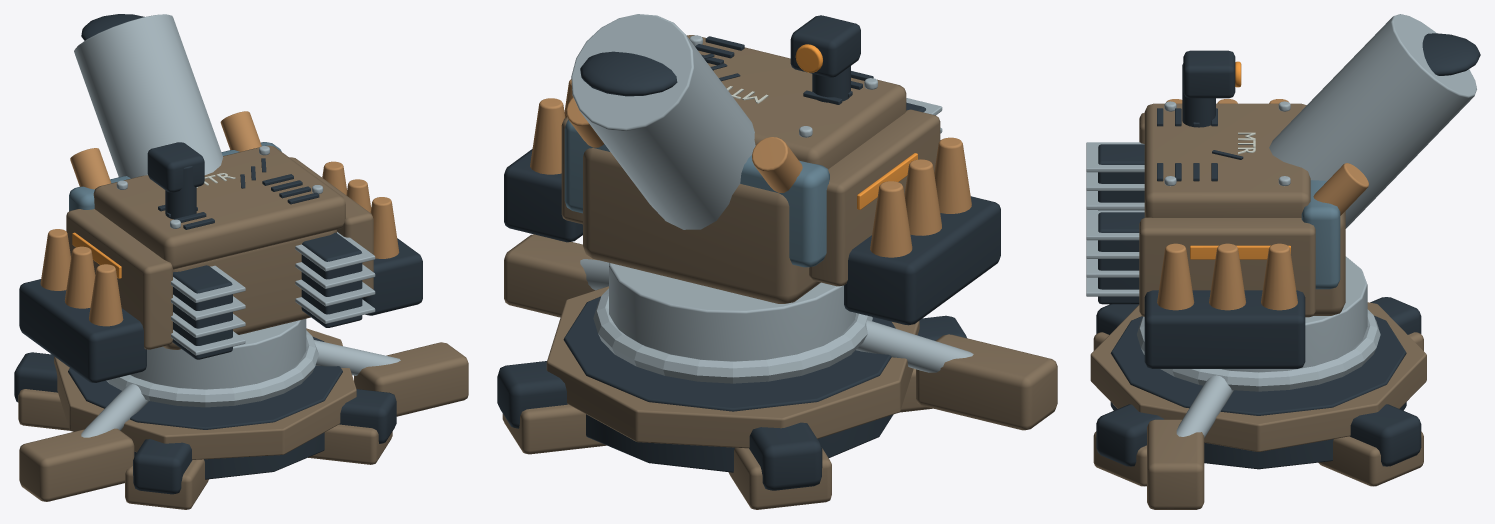
The model's file is 02_mortar_bulwark.glb.
3 renders of one model, left to right at view 1: azimuth 30°, elevation 25°; view 2: azimuth 150°, elevation 25°; view 3: azimuth 270°, elevation 25°, orthographic. The views are drawn at different scales.
Visible parts, largest first — view 1: Armored cradle, Armored footing, Cooling vent, Rivet, Recessed bearing, Bearing, Recoil piston, Recoil shield, Identification strip; view 2: Armored cradle, Armored footing, Bearing, Cooling vent, Rivet, Recessed bearing, Recoil piston, Recoil shield, Identification strip; view 3: Armored cradle, Rivet, Cooling vent, Armored footing, Recessed bearing, Bearing, Recoil piston, Recoil shield, Identification strip.
Part boxes in pixels (left/top/right/bottom): Armored cradle: left=66, top=145, right=373, bottom=349; Armored footing: left=18, top=328, right=468, bottom=509; Cooling vent: left=19, top=14, right=422, bottom=382; Rivet: left=74, top=14, right=375, bottom=355; Recessed bearing: left=14, top=336, right=396, bottom=494; Bearing: left=81, top=319, right=400, bottom=437; Recoil piston: left=40, top=111, right=399, bottom=326; Recoil shield: left=69, top=142, right=281, bottom=211; Identification strip: left=72, top=232, right=121, bottom=278; Armored cradle: left=561, top=35, right=940, bottom=303; Armored footing: left=502, top=234, right=1057, bottom=509; Bearing: left=580, top=259, right=973, bottom=383; Cooling vent: left=504, top=15, right=1000, bottom=325; Rivet: left=571, top=14, right=942, bottom=229; Recessed bearing: left=497, top=296, right=966, bottom=490; Recoil piston: left=530, top=79, right=971, bottom=257; Recoil shield: left=564, top=119, right=829, bottom=267; Identification strip: left=795, top=44, right=917, bottom=209; Armored cradle: left=1139, top=103, right=1345, bottom=317; Rivet: left=1086, top=14, right=1476, bottom=296; Cooling vent: left=1098, top=33, right=1480, bottom=368; Armored footing: left=1090, top=302, right=1426, bottom=509; Recessed bearing: left=1096, top=297, right=1421, bottom=469; Bearing: left=1137, top=256, right=1380, bottom=437; Recoil piston: left=1157, top=99, right=1368, bottom=310; Recoil shield: left=1301, top=180, right=1340, bottom=289; Identification strip: left=1190, top=61, right=1290, bottom=259.
Size of the model in its own units: 2.05 by 1.69 by 1.52.
